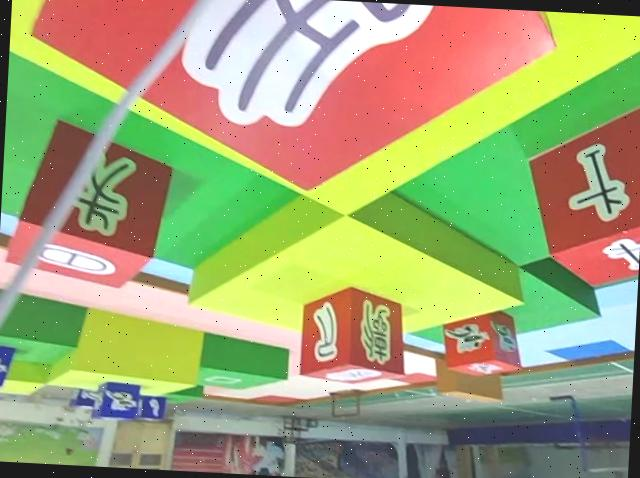R1: (438, 305, 529, 382)
R2 Fake: (20, 0, 561, 208), (2, 115, 179, 295), (296, 282, 412, 391)
R2 Real: (519, 94, 640, 292)
